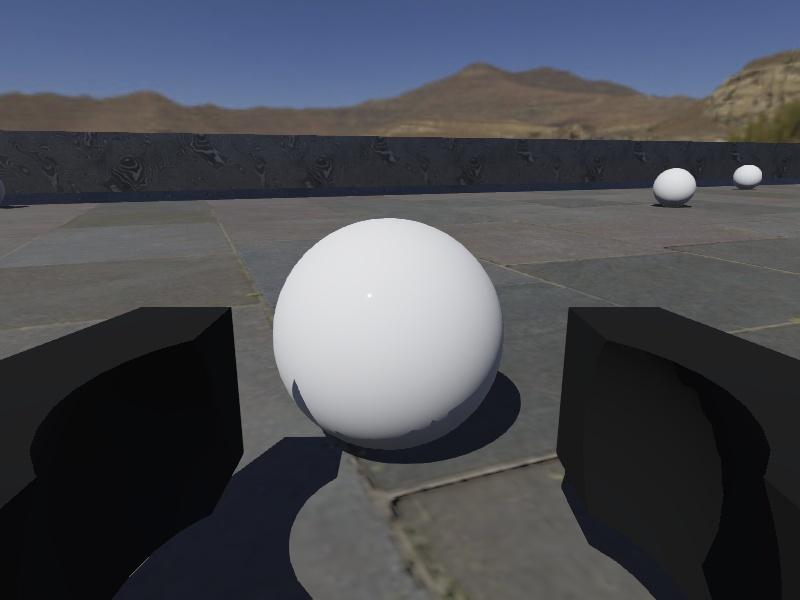white ball: (272, 218, 506, 454), (652, 167, 695, 207), (733, 164, 763, 191)
